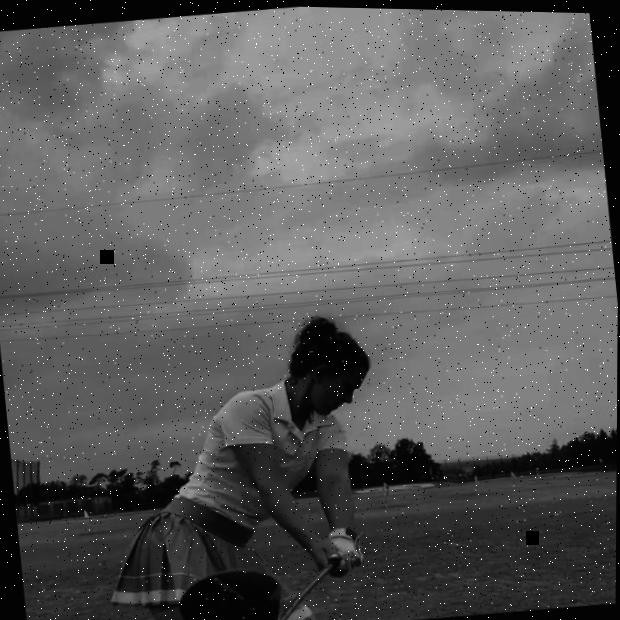ClubHead: (175, 561, 284, 620)
